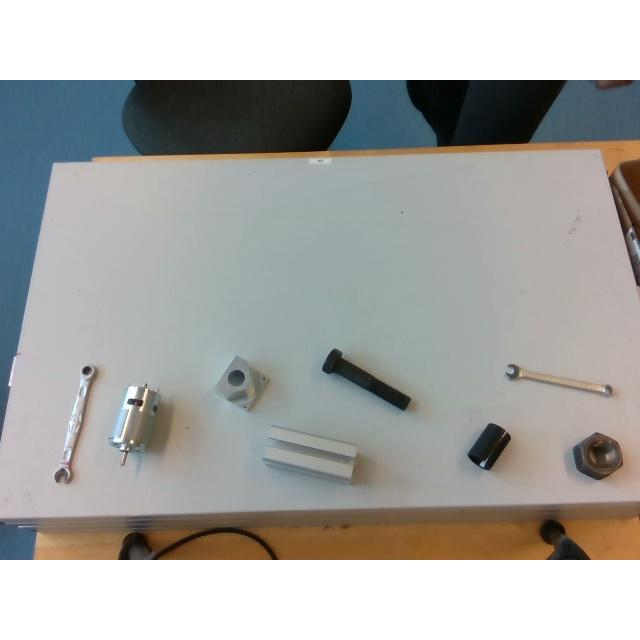M20_100: (322, 348, 410, 408)
M30: (574, 433, 622, 479)
Motor2: (109, 385, 159, 465)
S40_40_G: (262, 426, 358, 482)
Wrench: (52, 364, 96, 484)
